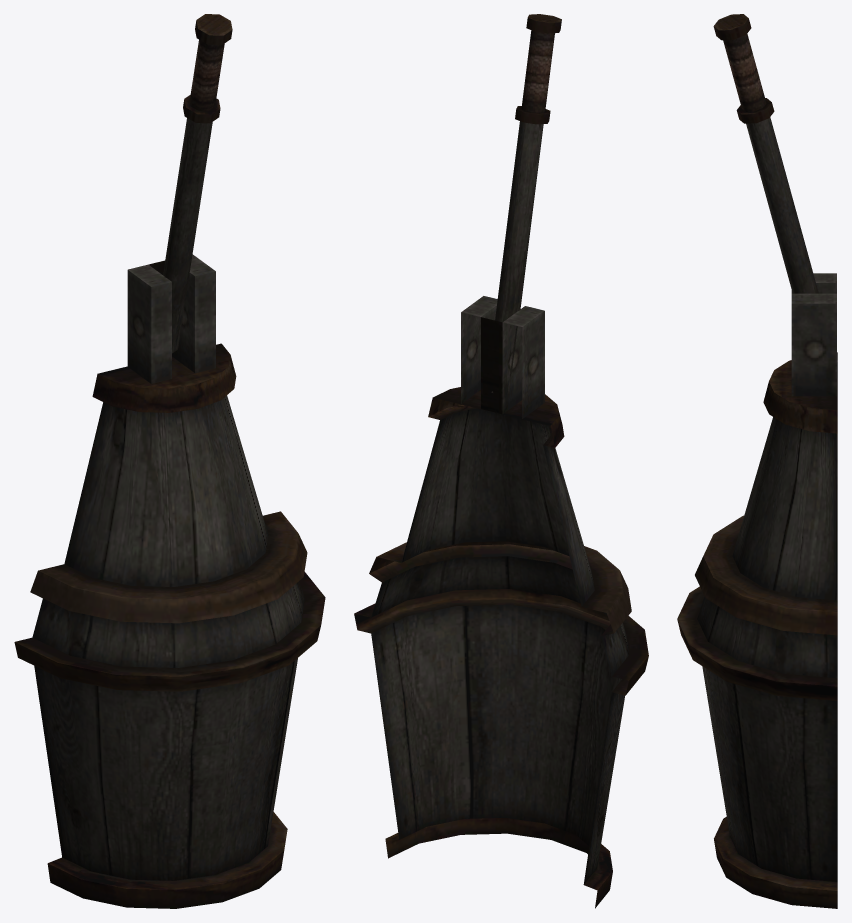
The model's file is elevator_lever.dae.
3 renders of one model, left to right at view 1: azimuth 30°, elevation 25°; view 2: azimuth 150°, elevation 25°; view 3: azimuth 270°, elevation 25°, orthographic. The views are drawn at different scales.
Visible parts, largest first — view 1: bottom, lever; view 2: bottom, lever; view 3: bottom, lever.
Boxes of the visible parts, x1=… form: bottom: x1=14, y1=254, x2=325, y2=908; lever: x1=163, y1=14, x2=232, y2=353; bottom: x1=354, y1=296, x2=648, y2=908; lever: x1=491, y1=14, x2=561, y2=393; bottom: x1=677, y1=273, x2=837, y2=908; lever: x1=713, y1=14, x2=837, y2=361.
Size of the model in its own units: 0.6889 by 1.99 by 0.345.
